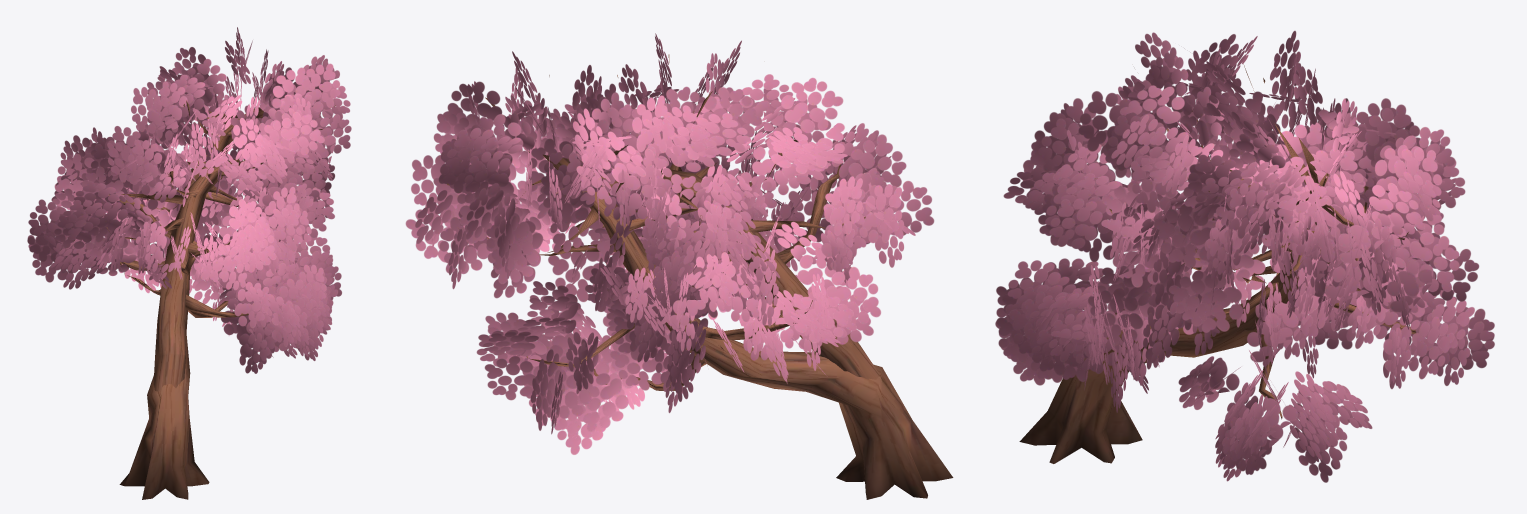
File: tree-wedding-2-sapling.glb
3 renders of one model, left to right at view 1: azimuth 30°, elevation 25°; view 2: azimuth 150°, elevation 25°; view 3: azimuth 270°, elevation 25°, orthographic. The views are drawn at different scales.
Parts seen in each view (by area): view 1: CherryBlossom_2; view 2: CherryBlossom_2; view 3: CherryBlossom_2.
Part boxes in pixels (bbox=[...]): CherryBlossom_2: bbox=[27, 27, 351, 499]; CherryBlossom_2: bbox=[405, 33, 953, 499]; CherryBlossom_2: bbox=[995, 30, 1494, 482].
Bounding box in the file's own units: 0.6849 × 0.65 × 0.6799.
Materials: 2 (2 with a texture image).
